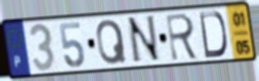3: (28, 22, 58, 74)
5: (58, 20, 87, 70)
D: (197, 10, 229, 60)
N: (126, 14, 163, 66)
Q: (95, 19, 129, 67)
R: (164, 11, 201, 63)
